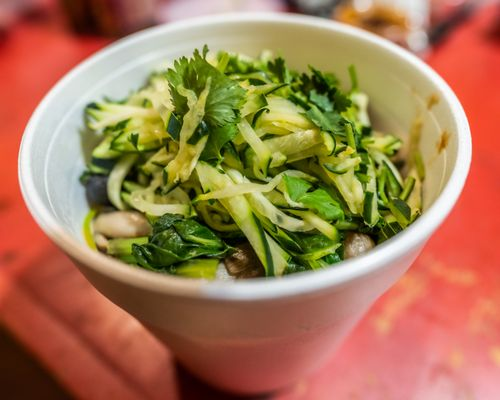sushi: (20, 9, 473, 399)
